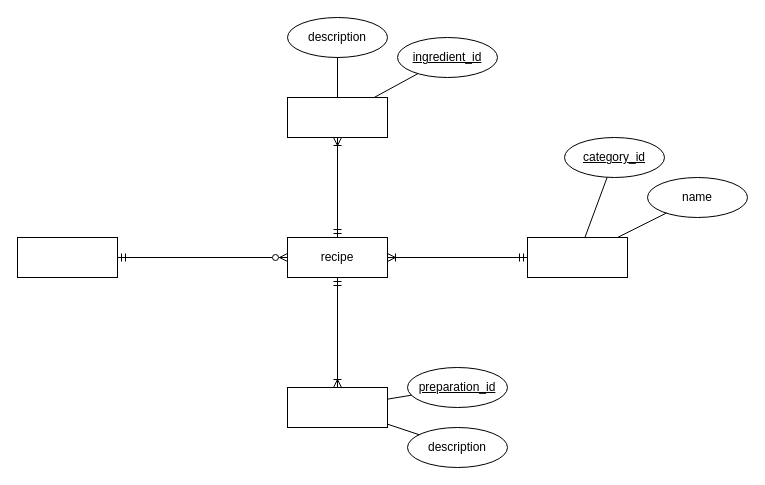
This 765x485 diagram has some shape labels left out. Each missing label, with the box of its shape:
category: (526, 236, 628, 278)
ingredients: (286, 96, 388, 138)
preparation: (286, 386, 388, 428)
user: (16, 236, 118, 278)
